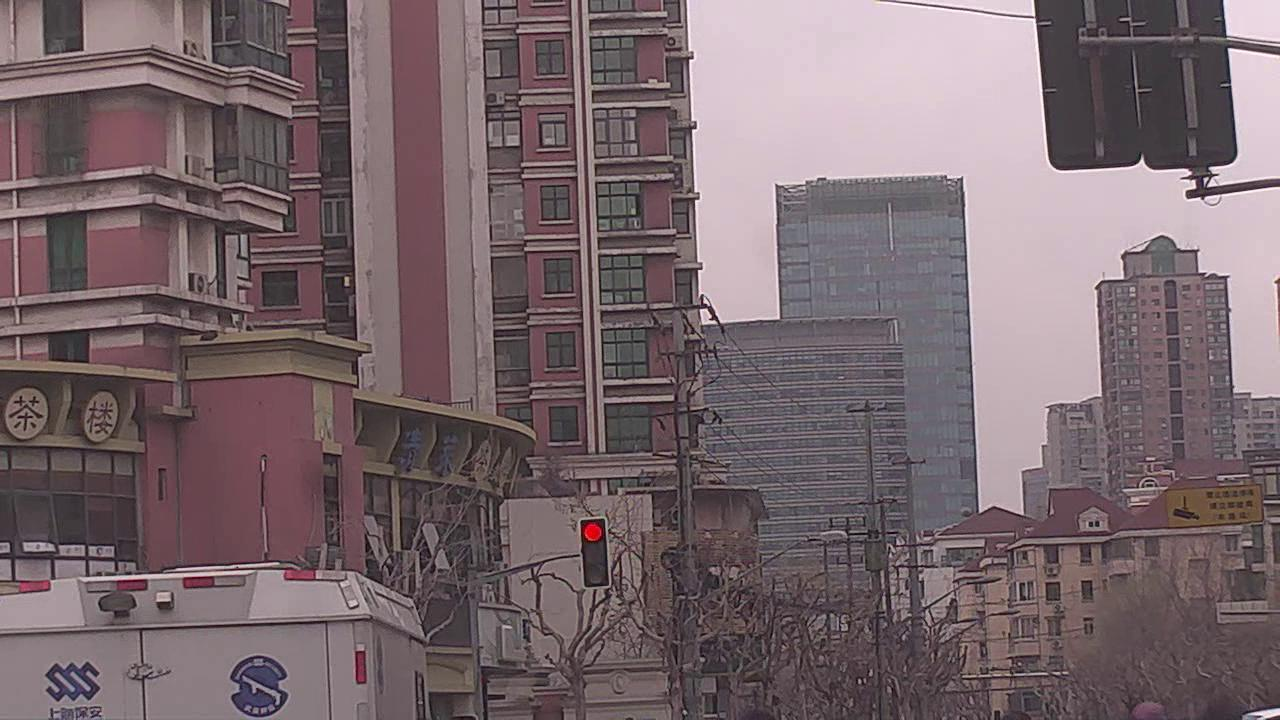traffic_light: (581, 517, 609, 587)
